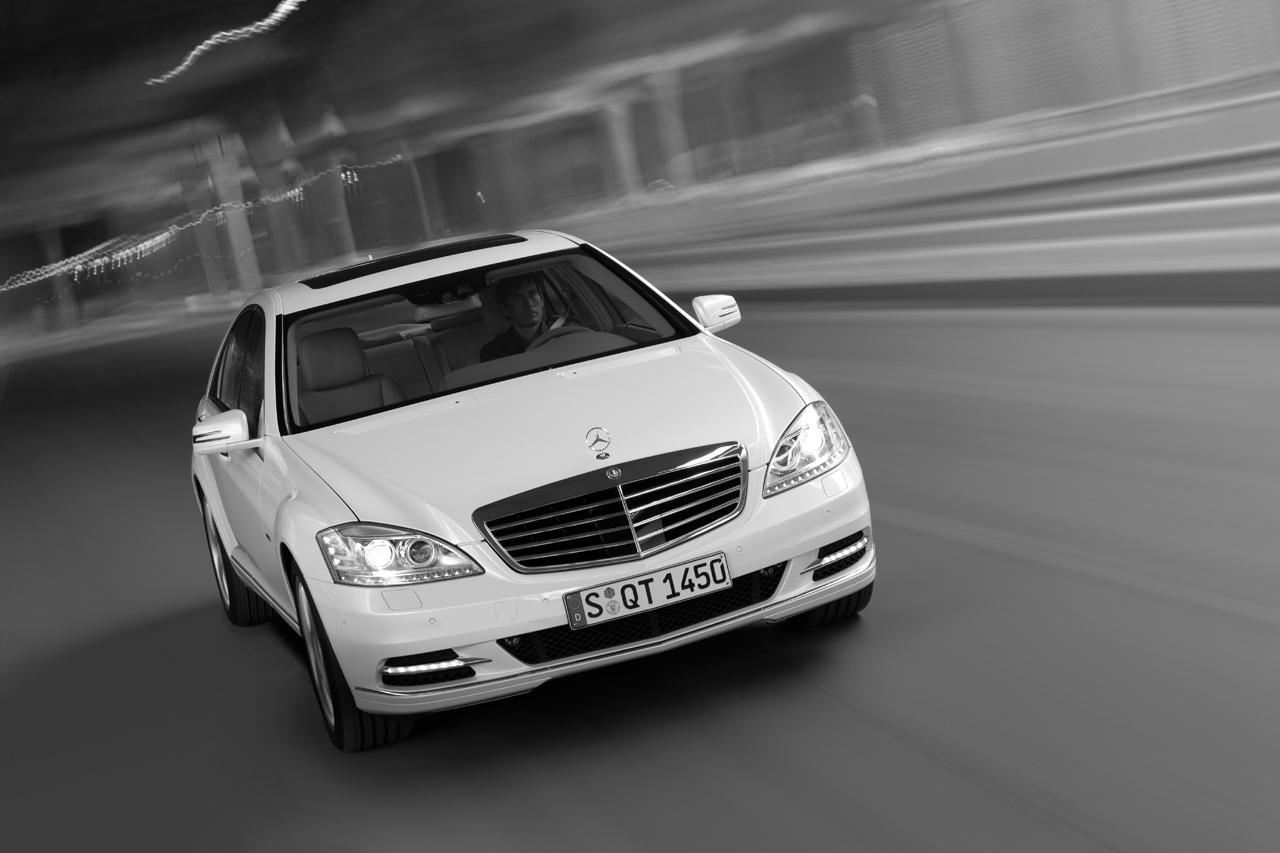car: (187, 225, 886, 762)
